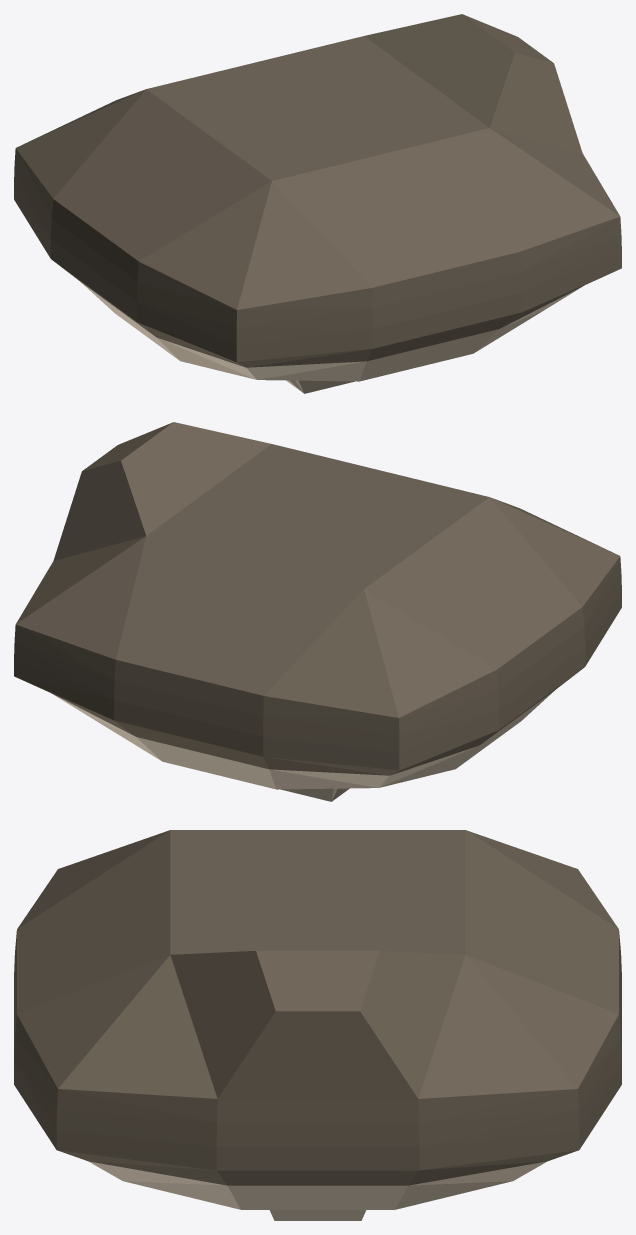
File: gomibako_head.obj
3 views of the same model, one above another, from view 1: azimuth 30°, elevation 25°; view 2: azimuth 150°, elevation 25°; view 3: azimuth 270°, elevation 25° (orthographic). The views are drawn at different scales.
Visible parts, largest first — view 1: 立方体.001; view 2: 立方体.001; view 3: 立方体.001.
Part boxes in pixels (x1,y1,x2,y2): 立方体.001: (14, 14, 621, 393); 立方体.001: (14, 422, 621, 801); 立方体.001: (14, 830, 621, 1220).
Bounding box in the file's own units: 3.8 × 2.41 × 3.8.
Materials: 1 (1 with a texture image).
